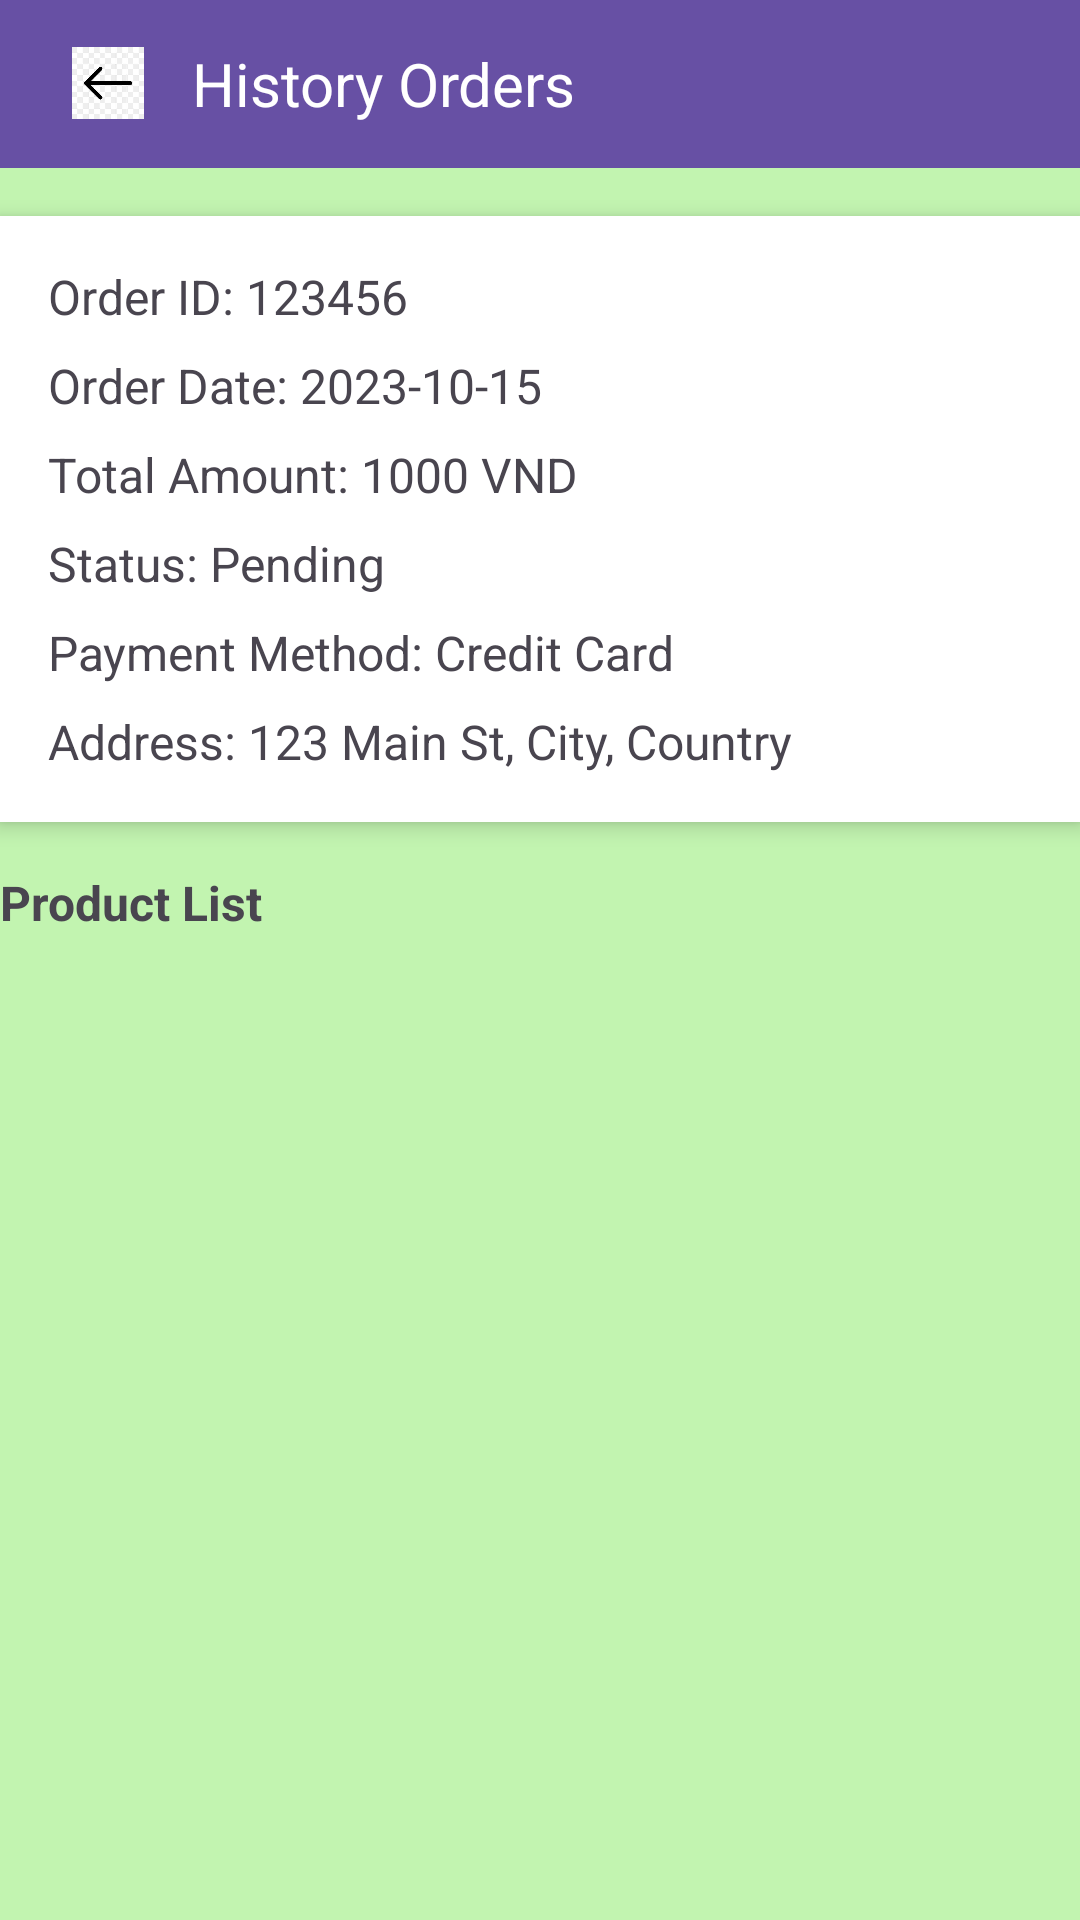

Where icons sit on this 1080*1920 app screen, as (x1, y1, x2, y2):
Back: (72, 47, 144, 119)
